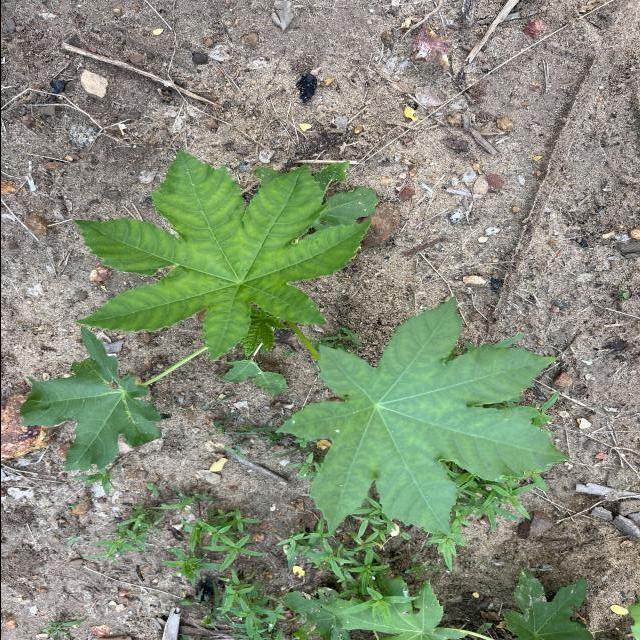Ricinus communis linn: (268, 294, 578, 538), (68, 147, 376, 365)
